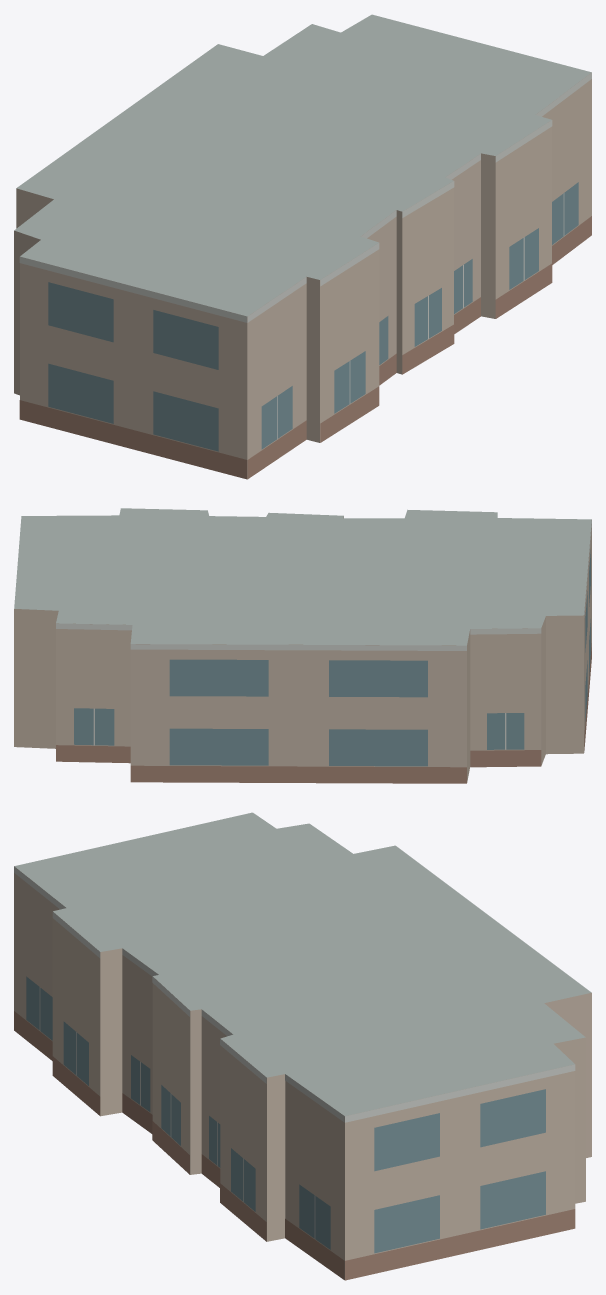
Rendered from survey-upis-32915580.glb.
3 views of the same model, one above another, from view 1: azimuth 30°, elevation 25°; view 2: azimuth 150°, elevation 25°; view 3: azimuth 270°, elevation 25° (orthographic). The views are drawn at different scales.
Parts seen in each view (by area): view 1: survey-upis-32915580.tmp; view 2: survey-upis-32915580.tmp; view 3: survey-upis-32915580.tmp.
Boxes of the visible parts, <box> form: survey-upis-32915580.tmp: <box>14,14,591,479</box>; survey-upis-32915580.tmp: <box>14,508,591,783</box>; survey-upis-32915580.tmp: <box>14,812,591,1280</box>.
Size of the model in its own units: 24.21 by 6.1 by 19.45.
